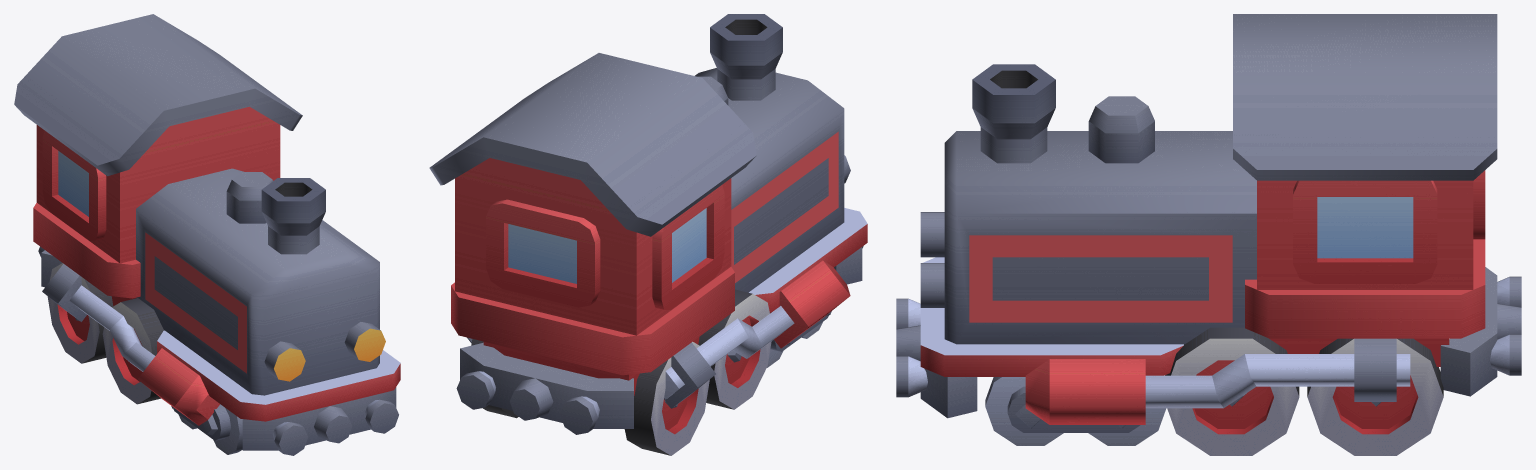
File: Train Locomotive B.glb
3 views of the same model, side by side, from view 1: azimuth 30°, elevation 25°; view 2: azimuth 150°, elevation 25°; view 3: azimuth 270°, elevation 25° (orthographic). The views are drawn at different scales.
Parts seen in each view (by area): view 1: train-locomotive-b, wheel.002, wheel.003, wheels-front; view 2: train-locomotive-b, wheel.003, wheel.002, wheels-front; view 3: train-locomotive-b, wheel, wheel.001, wheels-front.
Part boxes in pixels (bbox=[...]): train-locomotive-b: bbox=[14, 14, 400, 455]; wheel.002: bbox=[102, 298, 164, 404]; wheel.003: bbox=[47, 263, 113, 363]; wheels-front: bbox=[171, 404, 242, 454]; train-locomotive-b: bbox=[429, 14, 867, 434]; wheel.003: bbox=[624, 341, 709, 455]; wheel.002: bbox=[698, 289, 771, 409]; wheels-front: bbox=[767, 311, 831, 367]; train-locomotive-b: bbox=[896, 14, 1521, 424]; wheel: bbox=[1165, 327, 1299, 455]; wheel.001: bbox=[1307, 338, 1443, 455]; wheels-front: bbox=[985, 377, 1166, 445].
Bounding box in the file's own units: 1.32 × 1.66 × 2.6.
1 material, 1 textured.
